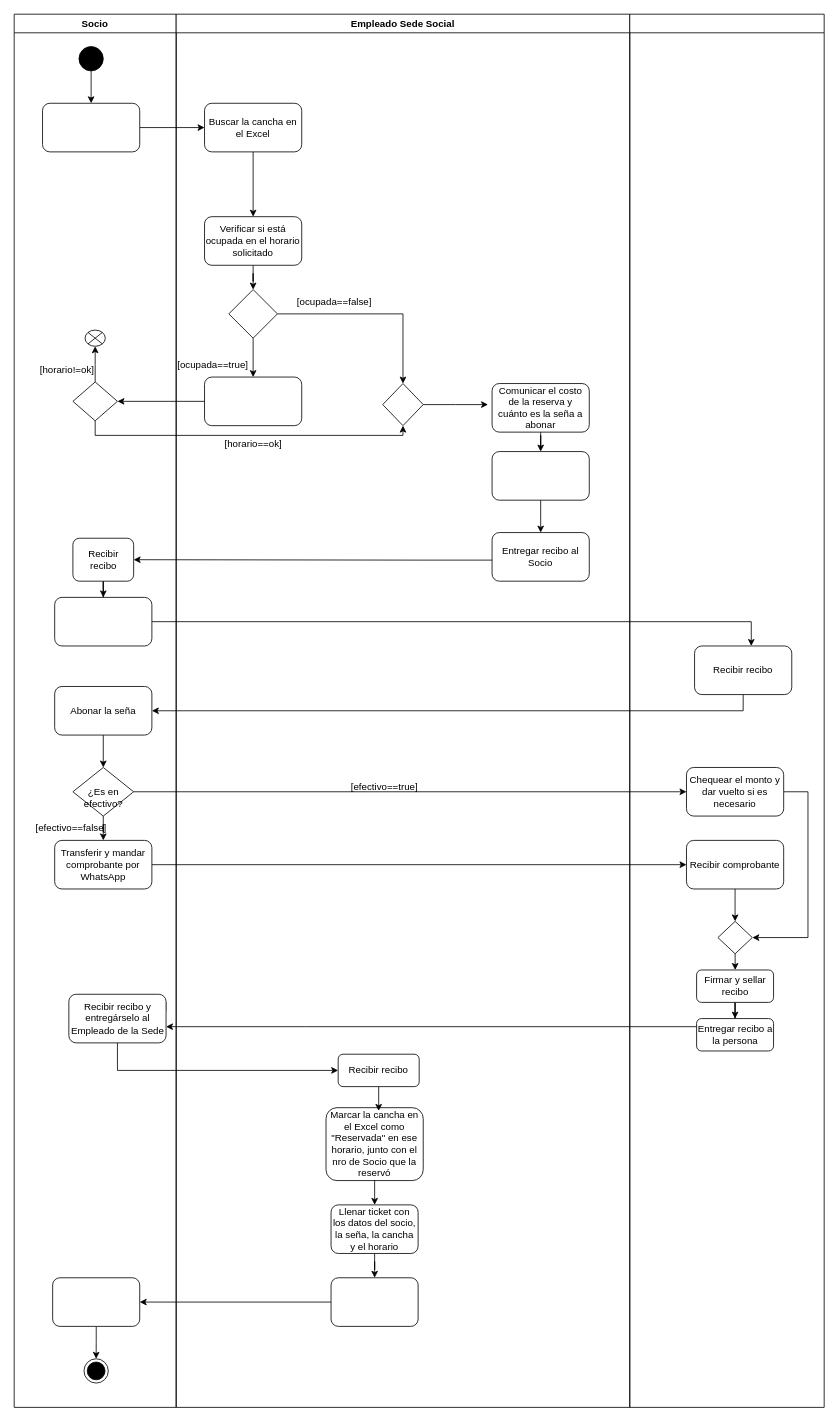
Image size: 838x1422. Some labels were removed from this diagram. Each missing label, with the centre of its shape:
"Entregar recibo en Tesorería" goes at point (103, 621).
"Entregar ticket al Socio" goes at point (374, 1301).
"Llenar recibo con los datos del Socio y el monto a pagar" goes at point (540, 475).
"Notificar al Socio y ofrecerle otro horario" goes at point (253, 401).
"Recibir ticket" goes at point (96, 1301).
"Solicitar una cancha para reservar en un horario" goes at point (91, 127).
"Tesorero" goes at point (726, 710).
"¿Cancha ocupada?" goes at point (252, 313).
"¿Sirve el horario?" goes at point (94, 401).
